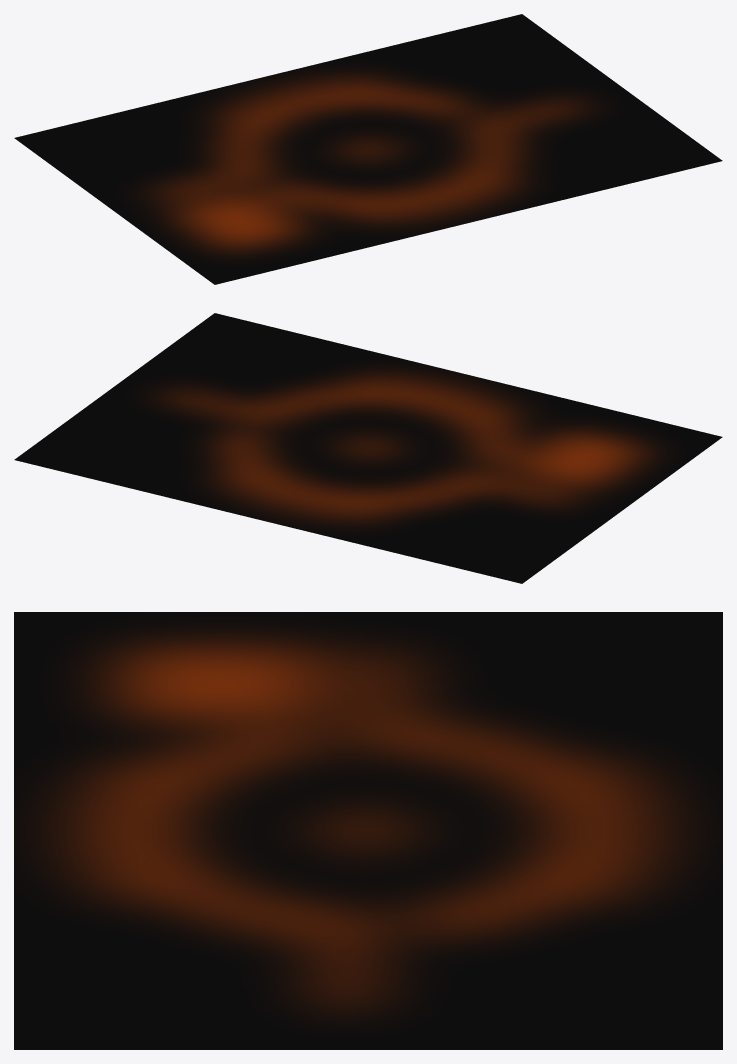
File: M18_lockon_sight.fbx
3 renders of one model, top to bottom at view 1: azimuth 30°, elevation 25°; view 2: azimuth 150°, elevation 25°; view 3: azimuth 270°, elevation 25°, orthographic. The views are drawn at different scales.
Parts seen in each view (by area): view 1: lockon_sight_1; view 2: lockon_sight_1; view 3: lockon_sight_1.
Part boxes in pixels (x1,y1,x2,y2): lockon_sight_1: [14, 14, 722, 284]; lockon_sight_1: [14, 313, 722, 583]; lockon_sight_1: [14, 612, 722, 1049].
Size of the model in its own units: 12 by 0.25 by 8.21.
